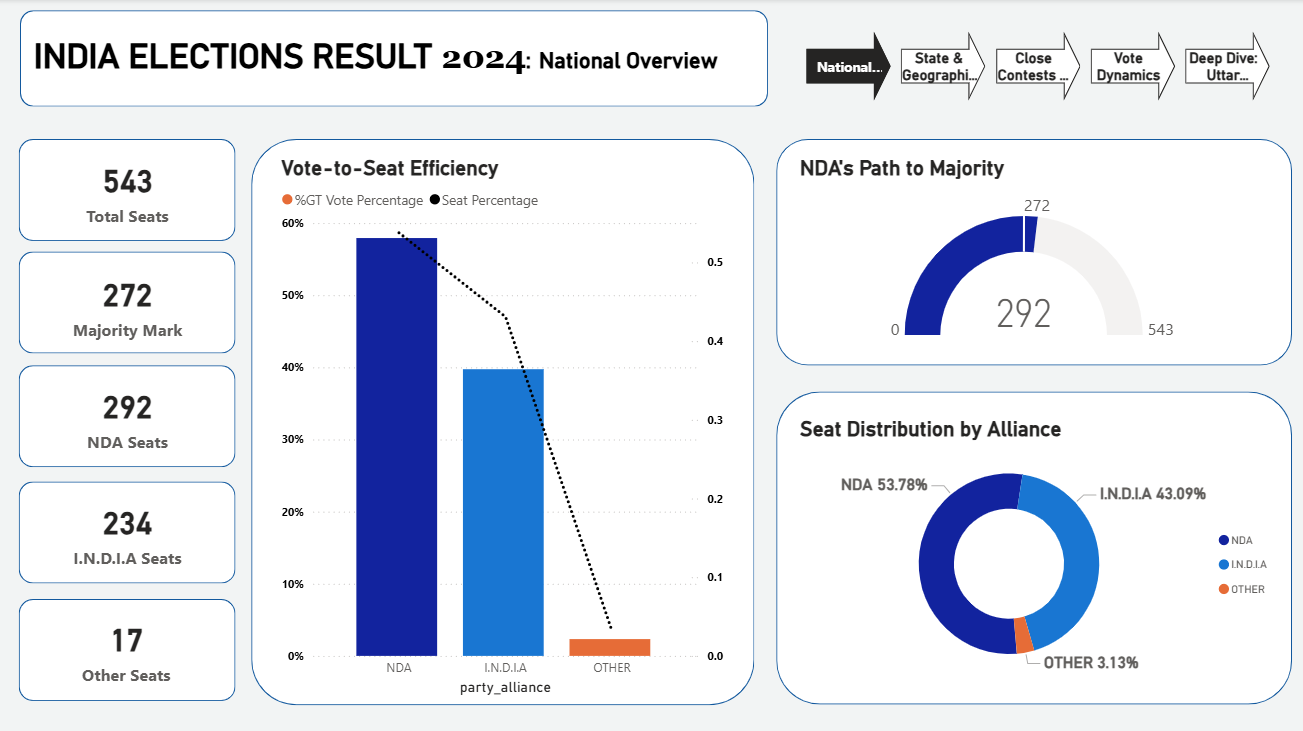

What the dashboard file says about the page in this screenshot:
{"tool":"powerbi","page":{"name":"National Overview","canvas":[1280,720],"ordinal":0},"visuals":[{"type":"shape","box":[247,137.2,494,555.7],"z":0},{"type":"lineClusteredColumnComboChart","title":"Vote-to-Seat Efficiency","fields":{"Category":["vw_alliance_summary.party_alliance"],"Y":["vw_alliance_summary.Vote Percentage"],"Y2":["vw_alliance_summary.Seat Percentage"]},"box":[271.7,153.7,444.6,535.2],"z":1000},{"type":"shape","box":[761.6,137.2,506.3,222.3],"z":2000},{"type":"shape","box":[761.6,385.6,506.3,307.4],"z":3000},{"type":"gauge","title":"NDA''s Path to Majority","fields":{"Y":["Sum(vw_alliance_summary.Total_Seats_Won)"]},"box":[780.8,153.7,466.6,186.6],"z":4000},{"type":"donutChart","title":"Seat Distribution by Alliance","fields":{"Category":["vw_alliance_summary.party_alliance"],"Y":["Sum(vw_alliance_summary.Total_Seats_Won)"]},"box":[780.8,410.3,477.5,266.2],"z":6000},{"type":"shape","box":[18.7,137.2,212.7,100.2],"z":9000},{"type":"card","fields":{"Values":["vw_alliance_summary.Total Seats"]},"box":[37,142.7,177,90.6],"z":10000},{"type":"shape","box":[18.7,248.4,212.7,100.2],"z":11000},{"type":"shape","box":[18.7,359.5,212.7,100.2],"z":12000},{"type":"shape","box":[18.7,473.4,212.7,100.2],"z":13000},{"type":"shape","box":[18.7,588.7,212.7,100.2],"z":14000},{"type":"card","fields":{"Values":["vw_alliance_summary.Majority Mark"]},"box":[37,253.9,177,90.6],"z":15000},{"type":"card","fields":{"Values":["Sum(vw_alliance_summary.Total_Seats_Won)"]},"box":[37,365,177,90.6],"z":16000},{"type":"card","fields":{"Values":["Sum(vw_alliance_summary.Total_Seats_Won)"]},"box":[37,478.9,177,90.6],"z":17000},{"type":"card","fields":{"Values":["Sum(vw_alliance_summary.Total_Seats_Won)"]},"box":[35.7,592.8,177,91.9],"z":18000},{"type":"shape","box":[19.2,11,734.1,94.7],"z":19000},{"type":"textbox","box":[28.2,31.9,1251.5,57.7],"z":20000},{"type":"pageNavigator","box":[791.8,31.6,456.9,68.6],"z":21000}]}

Visuals, with their boxes in screenshot pixels (x1, y1, x2, y2), scaled from the page's 1280x720 canvas onto the 1303x731 screenshot:
shape: (251,139,754,703)
"Vote-to-Seat Efficiency" lineClusteredColumnComboChart: (277,156,729,699)
shape: (775,139,1291,365)
shape: (775,391,1291,704)
"NDA''s Path to Majority" gauge: (795,156,1270,345)
"Seat Distribution by Alliance" donutChart: (795,417,1281,687)
shape: (19,139,236,241)
card - vw_alliance_summary.Total Seats: (38,145,218,237)
shape: (19,252,236,354)
shape: (19,365,236,467)
shape: (19,481,236,582)
shape: (19,598,236,699)
card - vw_alliance_summary.Majority Mark: (38,258,218,350)
card - Sum(vw_alliance_summary.Total_Seats_Won): (38,371,218,463)
card - Sum(vw_alliance_summary.Total_Seats_Won): (38,486,218,578)
card - Sum(vw_alliance_summary.Total_Seats_Won): (36,602,217,695)
shape: (20,11,767,107)
textbox: (29,32,1302,91)
pageNavigator: (806,32,1271,102)
